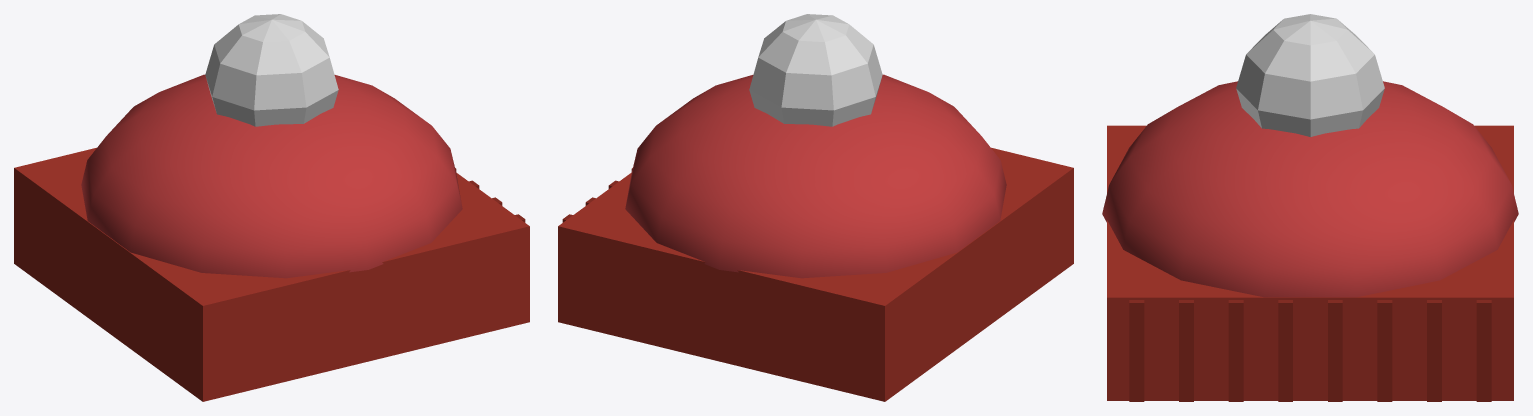
Rendered from hat_beanie.glb.
3 renders of one model, left to right at view 1: azimuth 30°, elevation 25°; view 2: azimuth 150°, elevation 25°; view 3: azimuth 270°, elevation 25°, orthographic. The views are drawn at different scales.
Parts seen in each view (by area): view 1: Hat; view 2: Hat; view 3: Hat.
Boxes of the visible parts, x1,y1,x2,y2 form: Hat: [14, 14, 529, 401]; Hat: [558, 14, 1073, 401]; Hat: [1102, 14, 1518, 401].
Size of the model in its own units: 0.501 by 0.393 by 0.504.
